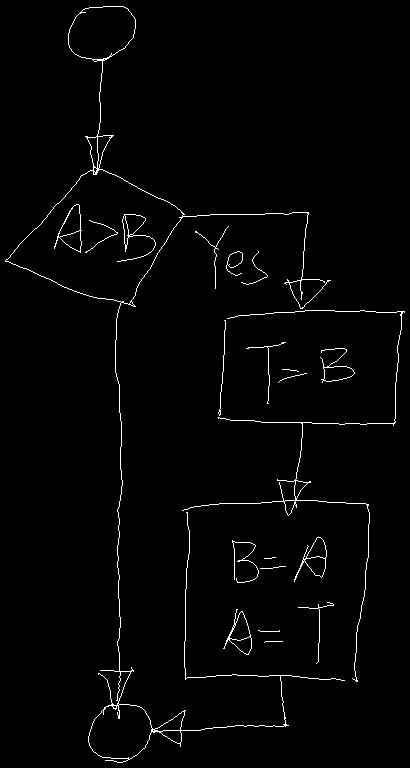arrow: (98, 301, 133, 718), (179, 212, 330, 308), (151, 675, 288, 746), (85, 58, 113, 174), (277, 423, 310, 515)
connection: (88, 704, 152, 762), (68, 6, 135, 61)
decision: (5, 166, 184, 306)
process: (182, 500, 369, 681), (218, 310, 404, 425)
text: (223, 537, 333, 663), (246, 342, 354, 403), (54, 204, 155, 261), (195, 226, 267, 288)
